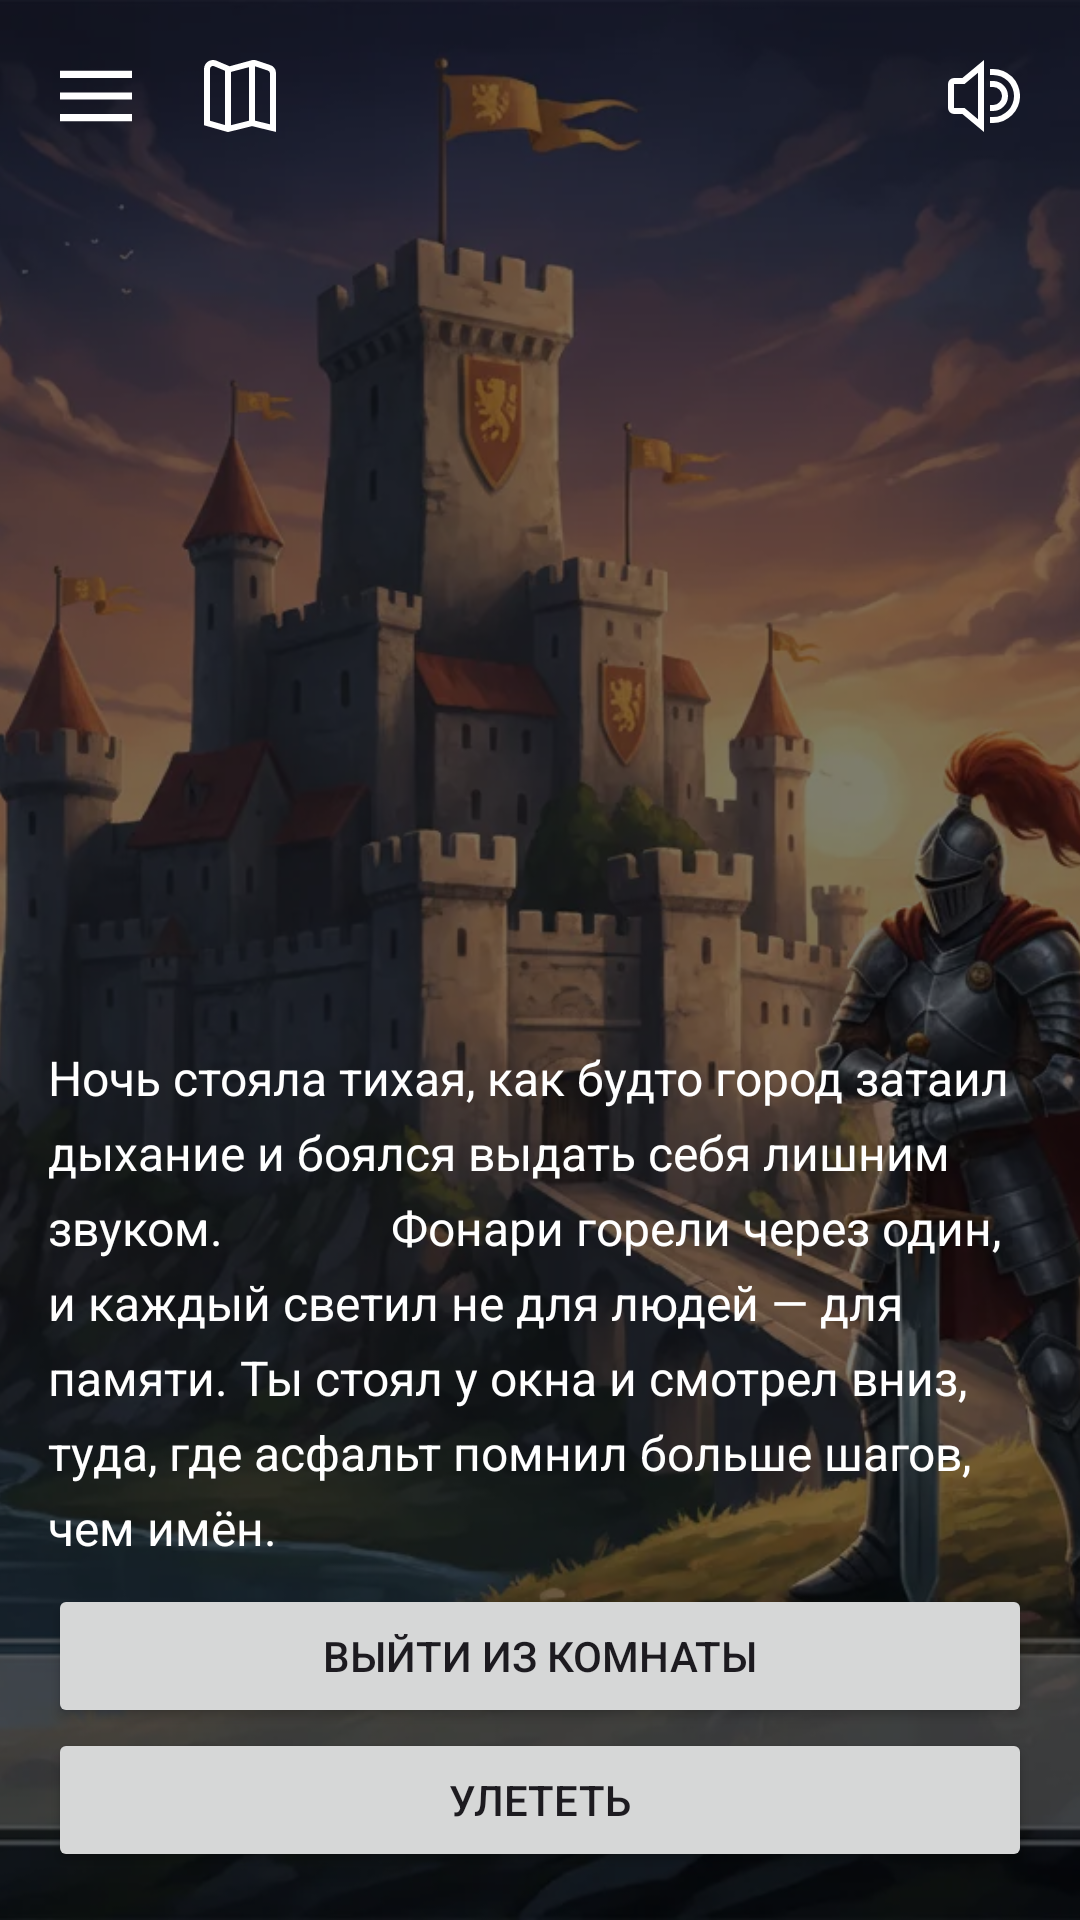

Icon click points for this 1080 x 1920 phone screenshot, format (x,y):
map: (240,96)
menu: (96,96)
volume free: (984,96)
